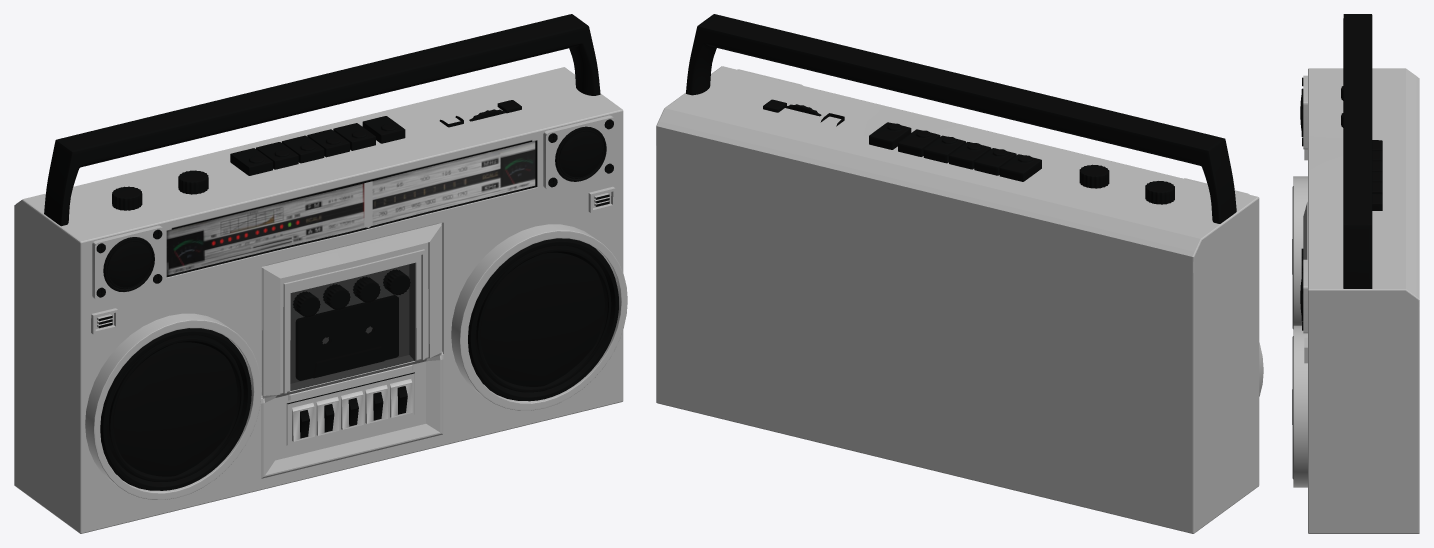
File: glb.glb
The picture shows the model from 3 angles, left to right: view 1: azimuth 30°, elevation 25°; view 2: azimuth 150°, elevation 25°; view 3: azimuth 270°, elevation 25°; orthographic projection. The views are drawn at different scales.
Visible parts, largest first — view 1: Box, Box.005, Box.007, Box.009, Box.006, Box.008, Box.010; view 2: Box; view 3: Box.
Part boxes in pixels (x1,y1,x2,y2): Box: (14, 14, 627, 533); Box.005: (290, 263, 415, 390); Box.007: (316, 396, 339, 435); Box.009: (365, 385, 388, 423); Box.006: (292, 402, 314, 441); Box.008: (341, 391, 363, 429); Box.010: (390, 379, 412, 417); Box: (656, 14, 1263, 533); Box: (1292, 14, 1419, 533).
Size of the model in its own units: 0.7217 by 0.4618 by 0.1755.
Materials: 1 (1 with a texture image).
